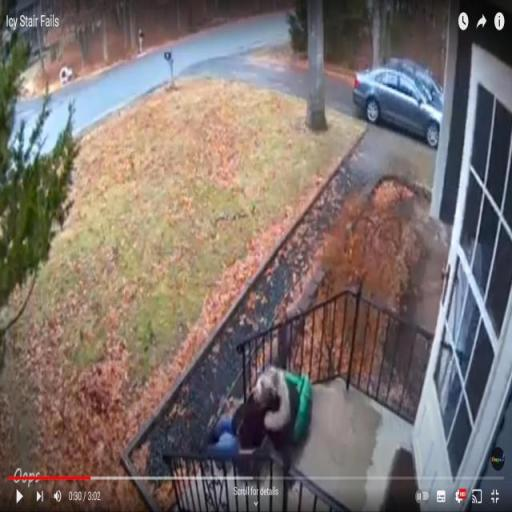Fall: (194, 362, 291, 464)
